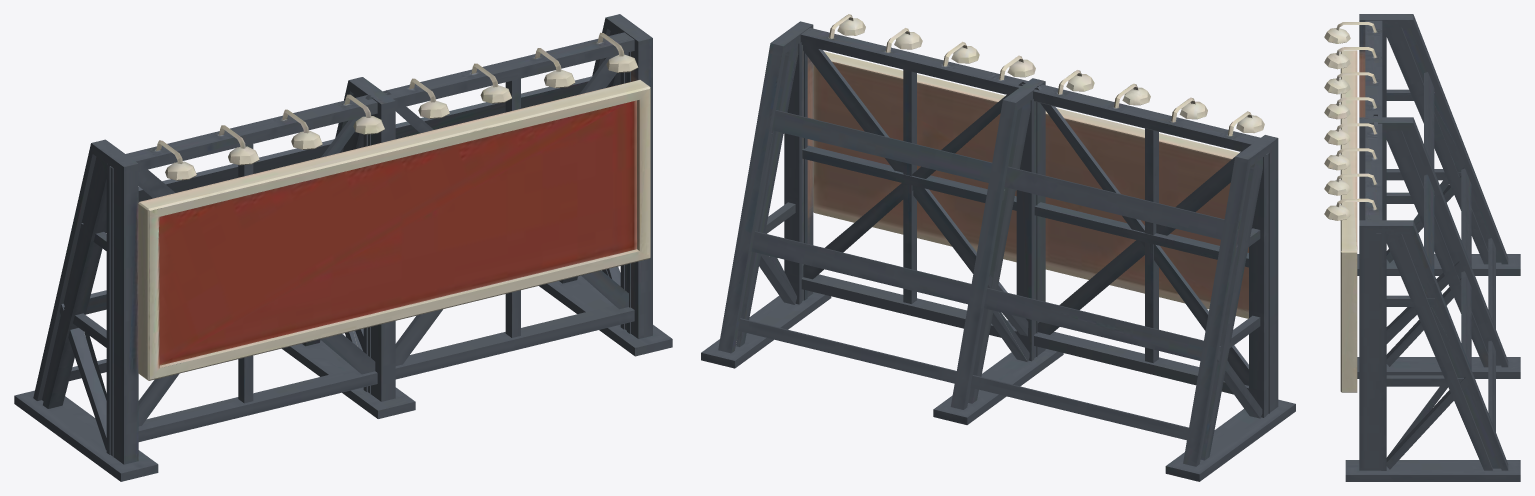
Rendered from wl_gas_billboard.glb.
3 renders of one model, left to right at view 1: azimuth 30°, elevation 25°; view 2: azimuth 150°, elevation 25°; view 3: azimuth 270°, elevation 25°, orthographic. The views are drawn at different scales.
Parts seen in each view (by area): view 1: wl_gas_billboard; view 2: wl_gas_billboard; view 3: wl_gas_billboard.
Part boxes in pixels (x1,y1,x2,y2): wl_gas_billboard: [14, 14, 672, 481]; wl_gas_billboard: [701, 14, 1295, 481]; wl_gas_billboard: [1324, 14, 1520, 481].
Size of the model in its own units: 10.9 by 6 by 4.09.
1 material, 1 textured.
